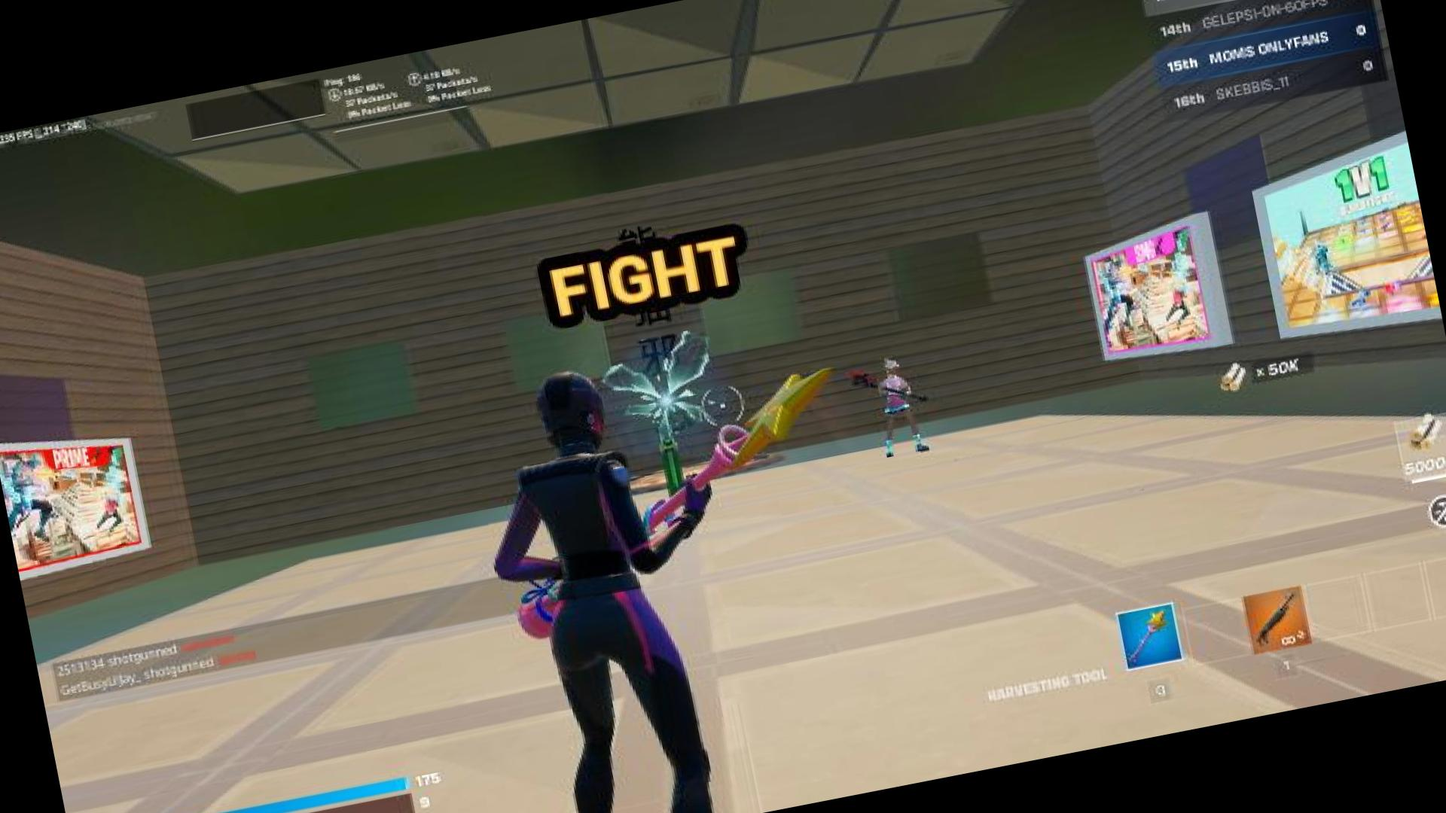player: (865, 349, 938, 463)
